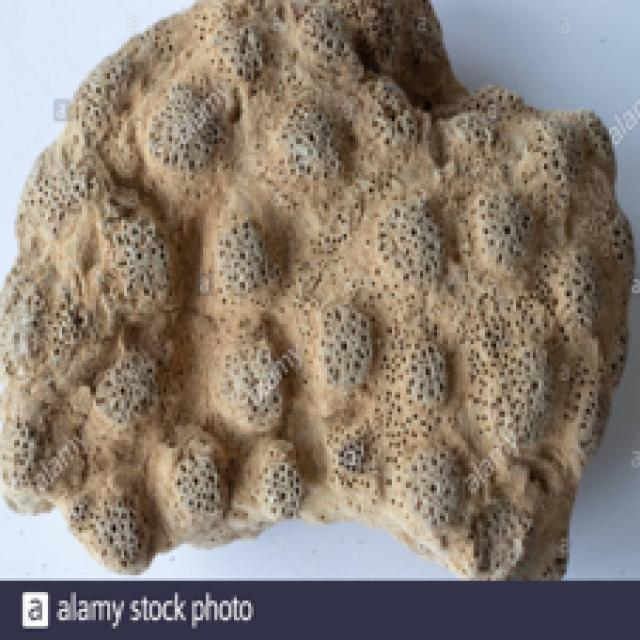Dead Coral: (0, 4, 631, 578)
